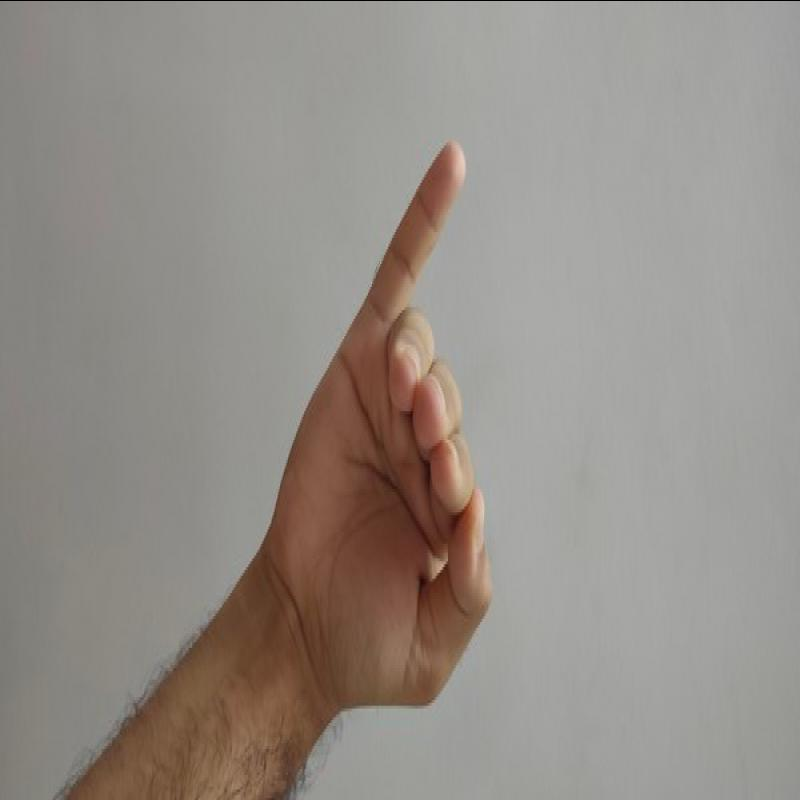Kartharee Mukham: (273, 130, 524, 721)
